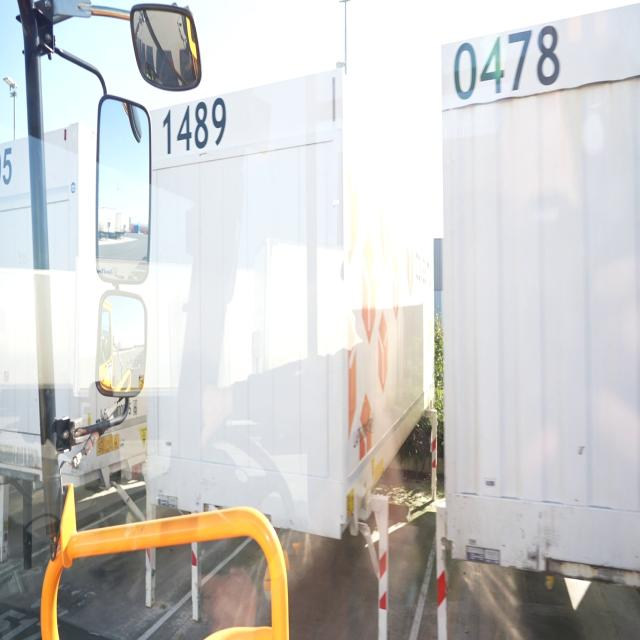Code: (447, 27, 569, 112), (162, 96, 232, 153)
